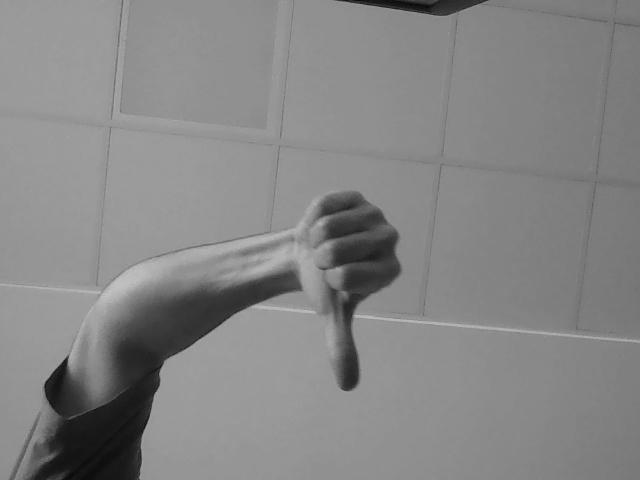bad: (288, 184, 442, 416)
